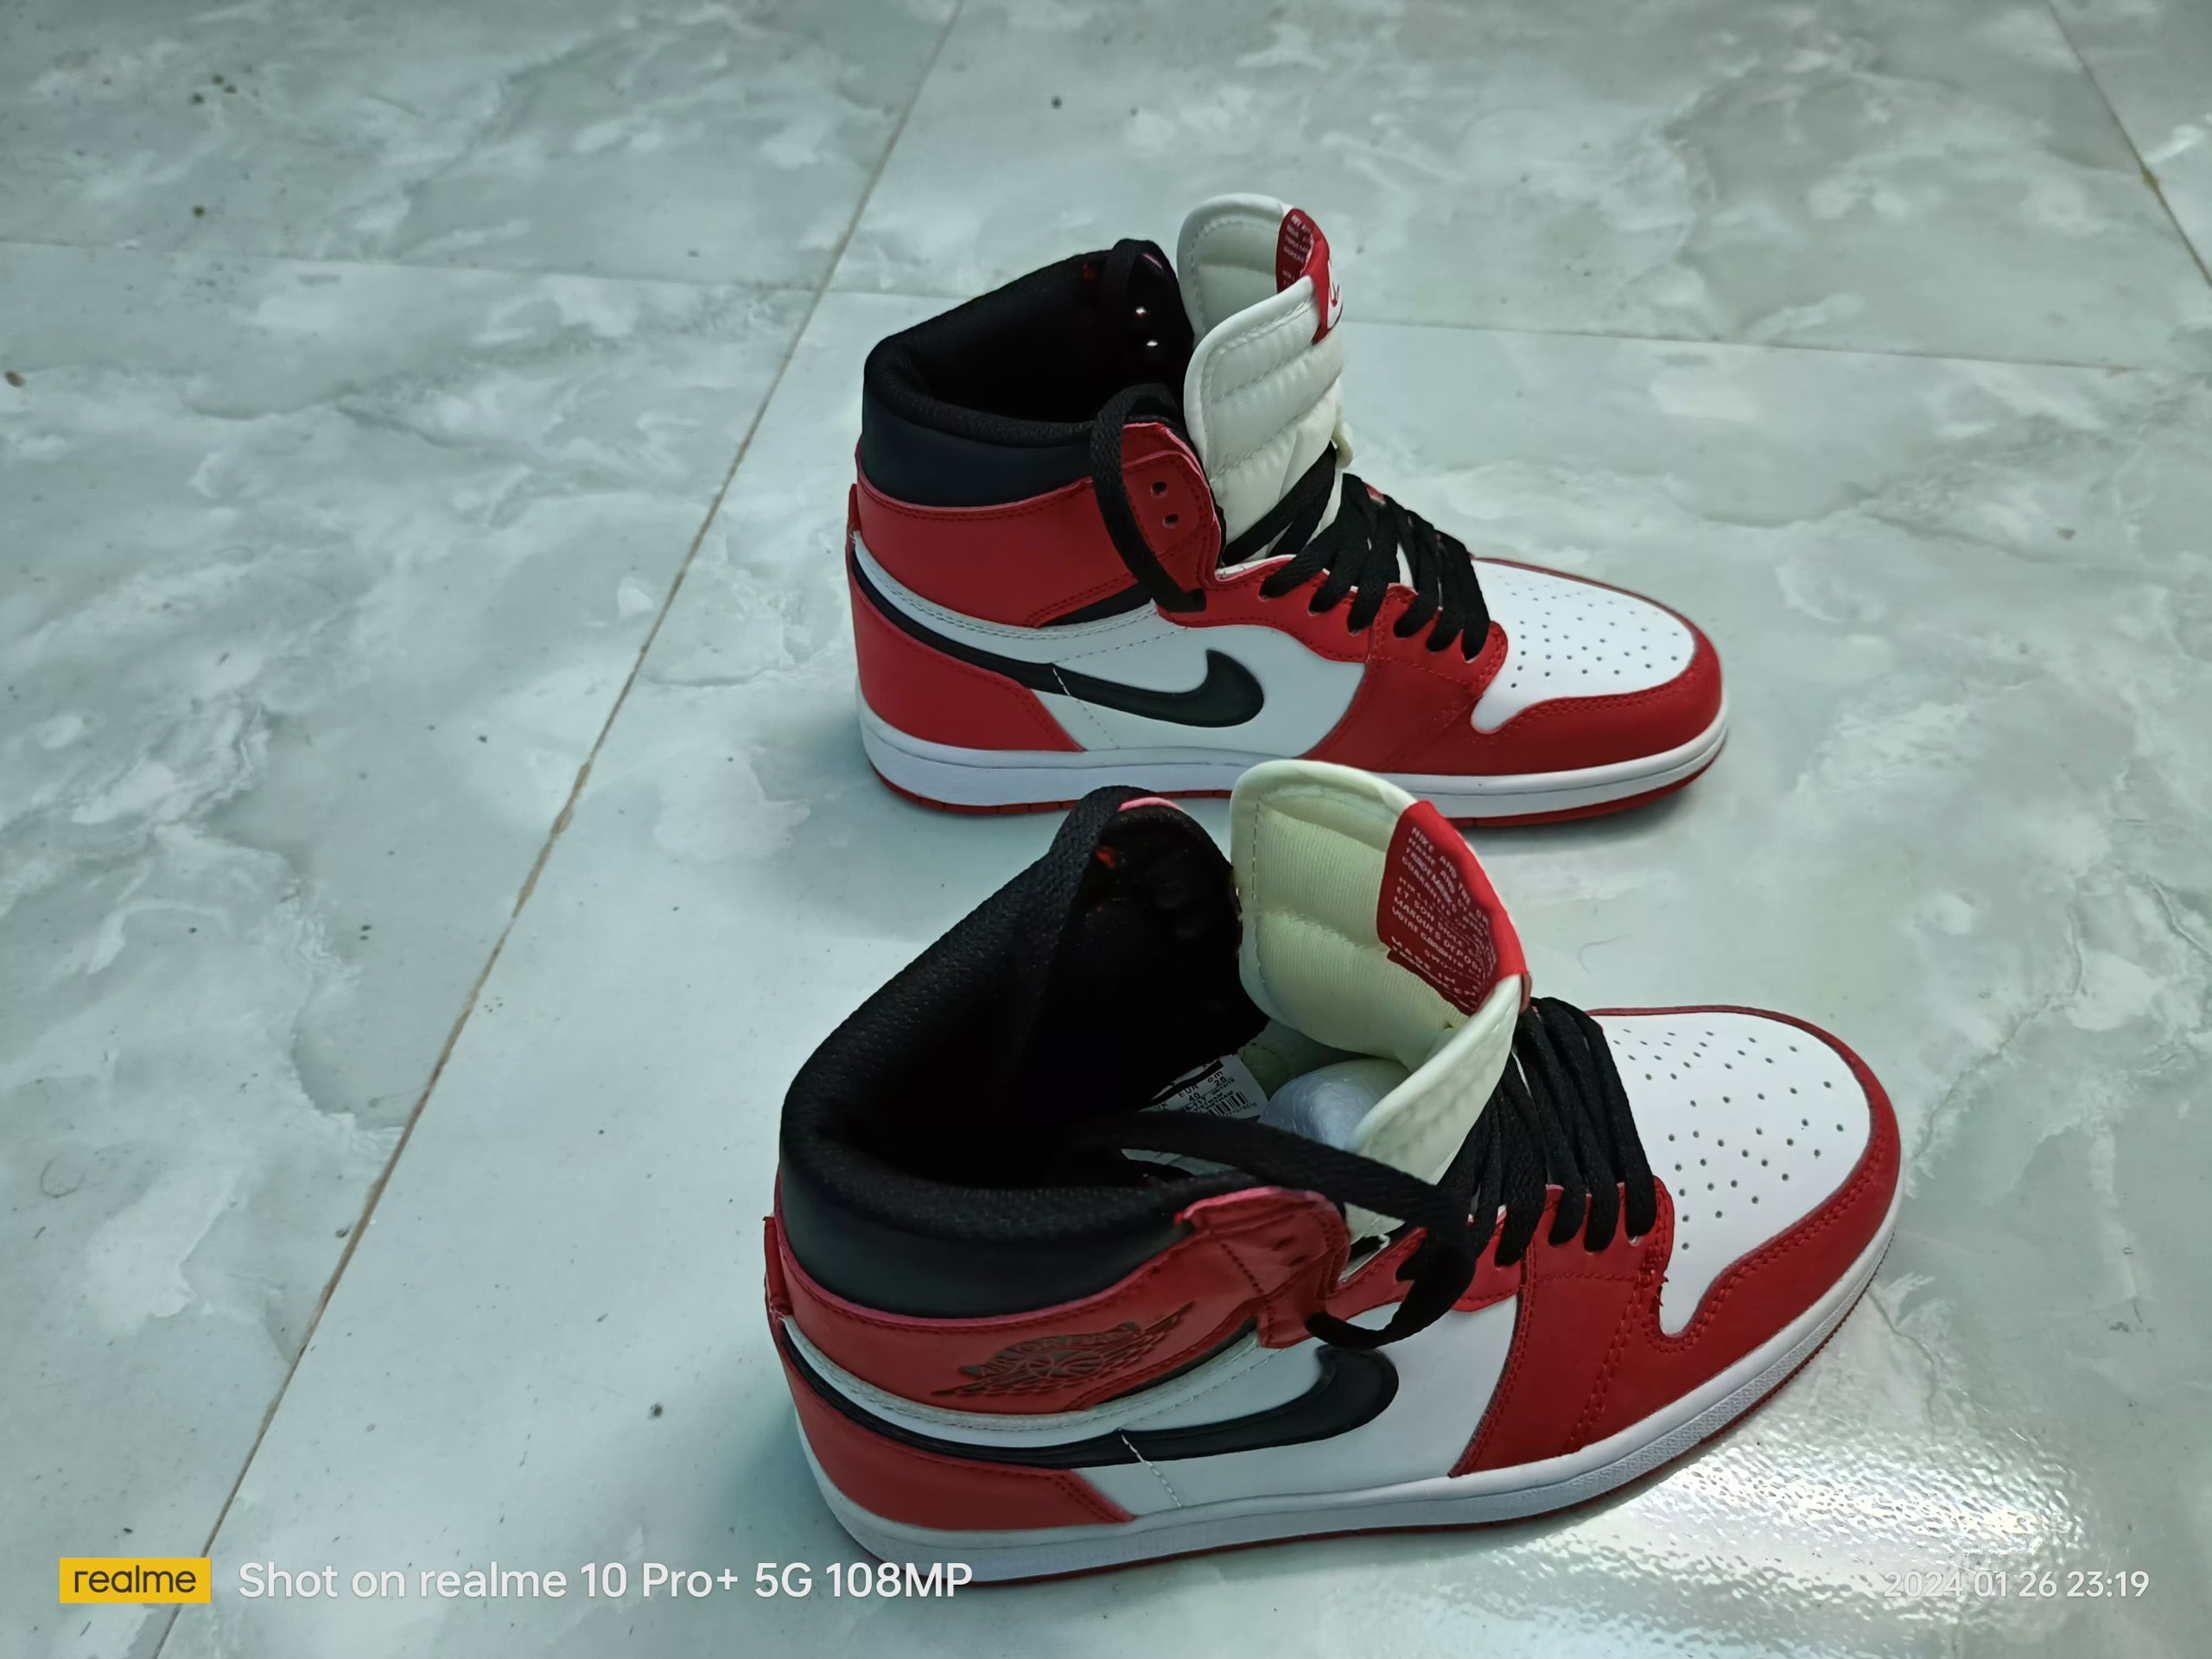sneakers: (756, 762, 1909, 1593), (840, 197, 1730, 816)
